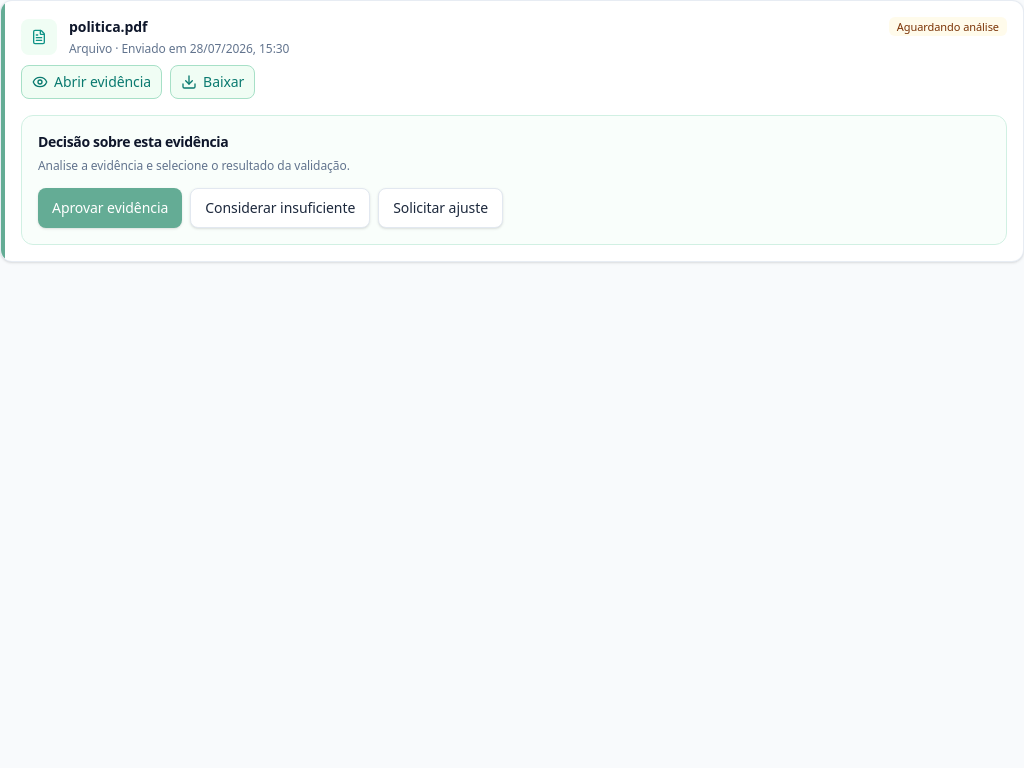
Test: EvidenceDocumentDecisionRow autosave › rascunho incompleto não permite Confirmar
Click the button "Considerar insuficiente". click: x=280, y=208
box: [190,188,370,228]
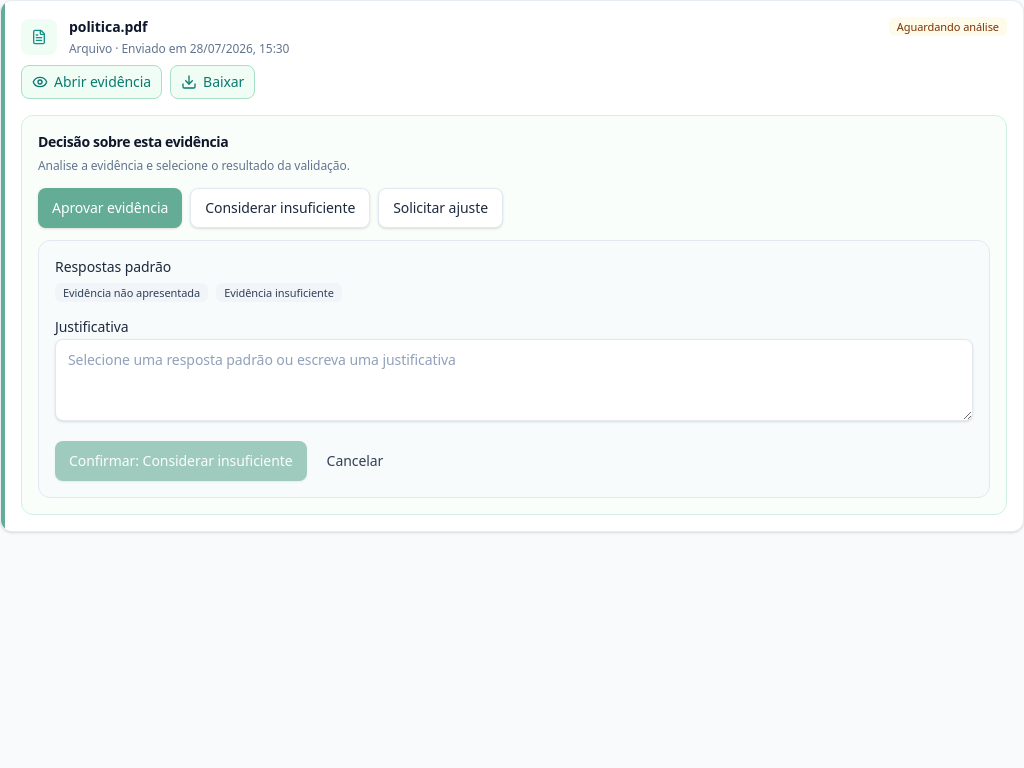
Now the button "Confirmar: Considerar insuficiente" is disabled, box [55,441,307,481]
